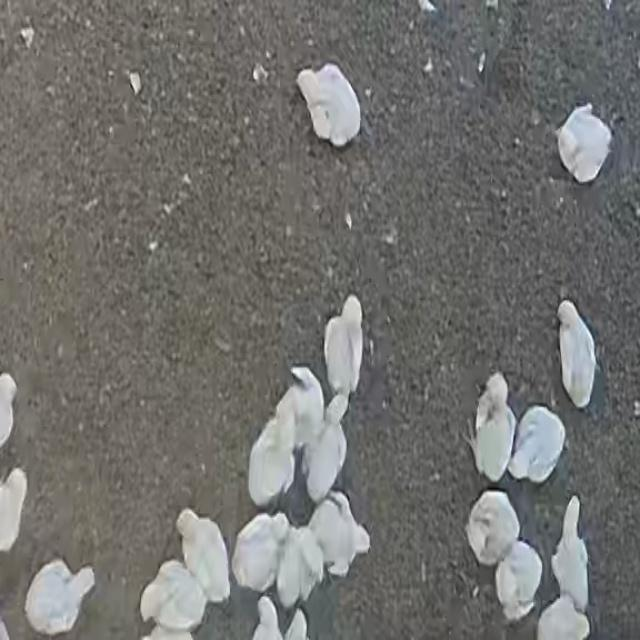chicken: (293, 57, 364, 151), (22, 558, 97, 638), (553, 99, 615, 188), (140, 560, 212, 636), (554, 296, 600, 412), (178, 508, 232, 600), (232, 512, 292, 592), (311, 492, 368, 576), (472, 374, 516, 482), (508, 404, 566, 484), (550, 497, 590, 612), (274, 516, 324, 608), (492, 539, 544, 623), (466, 490, 522, 566), (324, 296, 364, 402)
